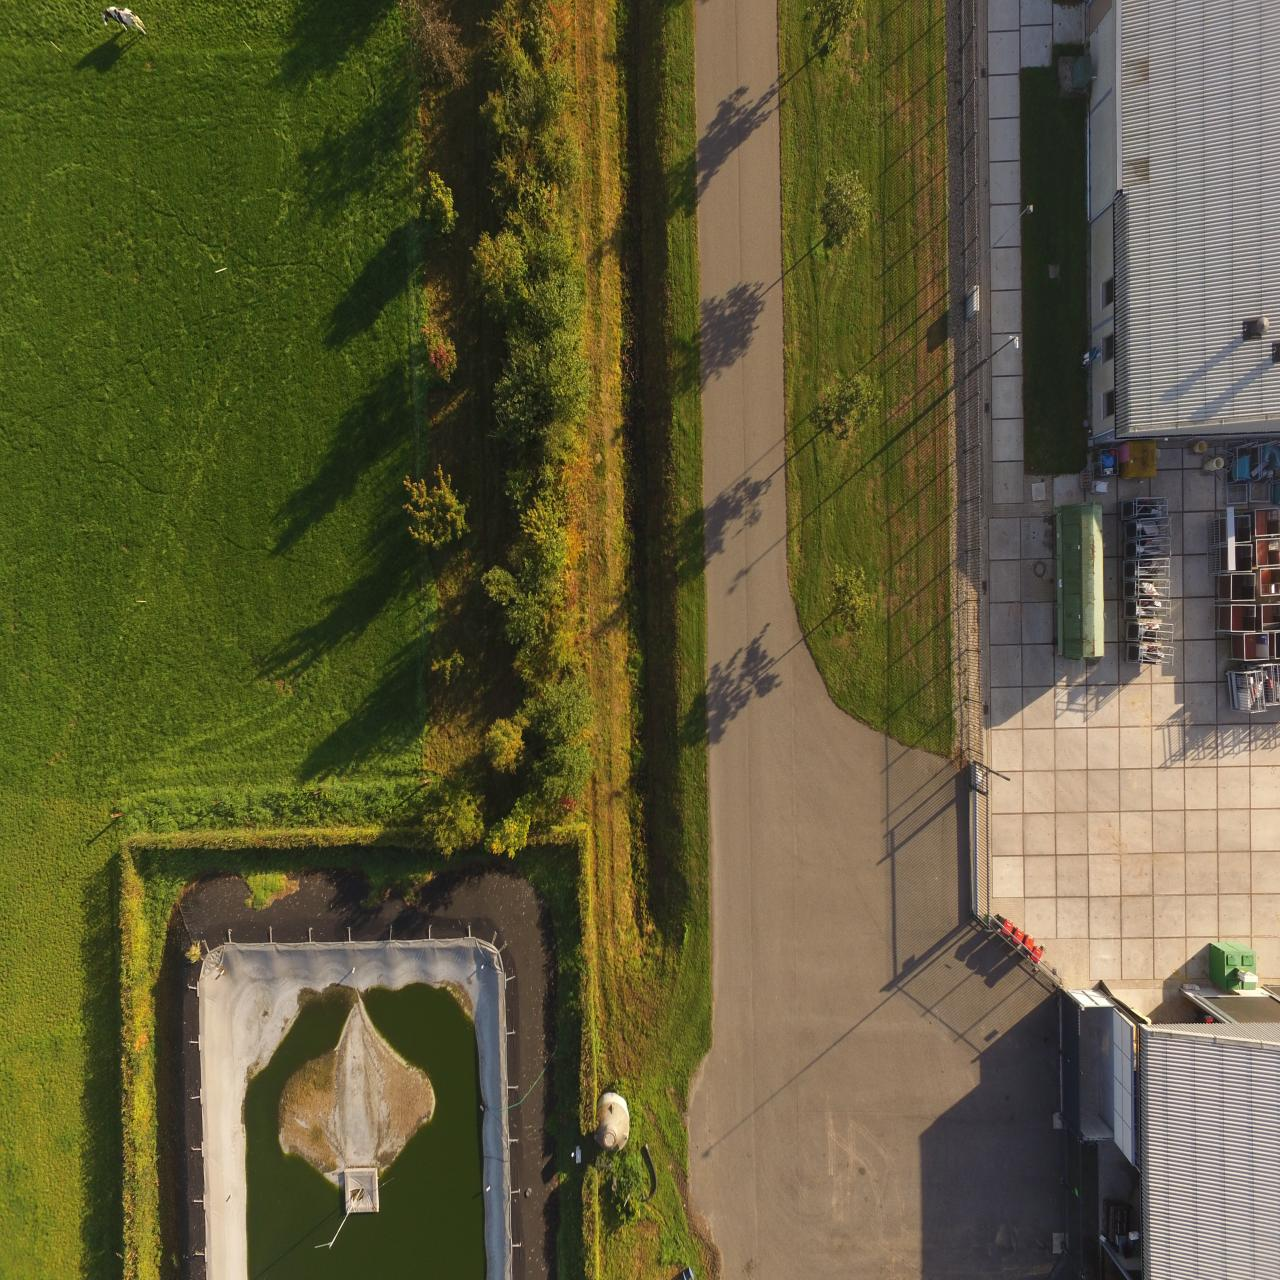cow: (91, 2, 163, 50)
